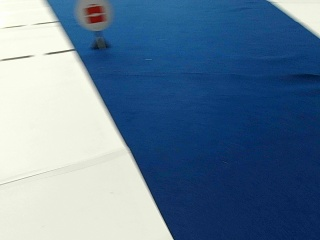company: (75, 1, 113, 30)
